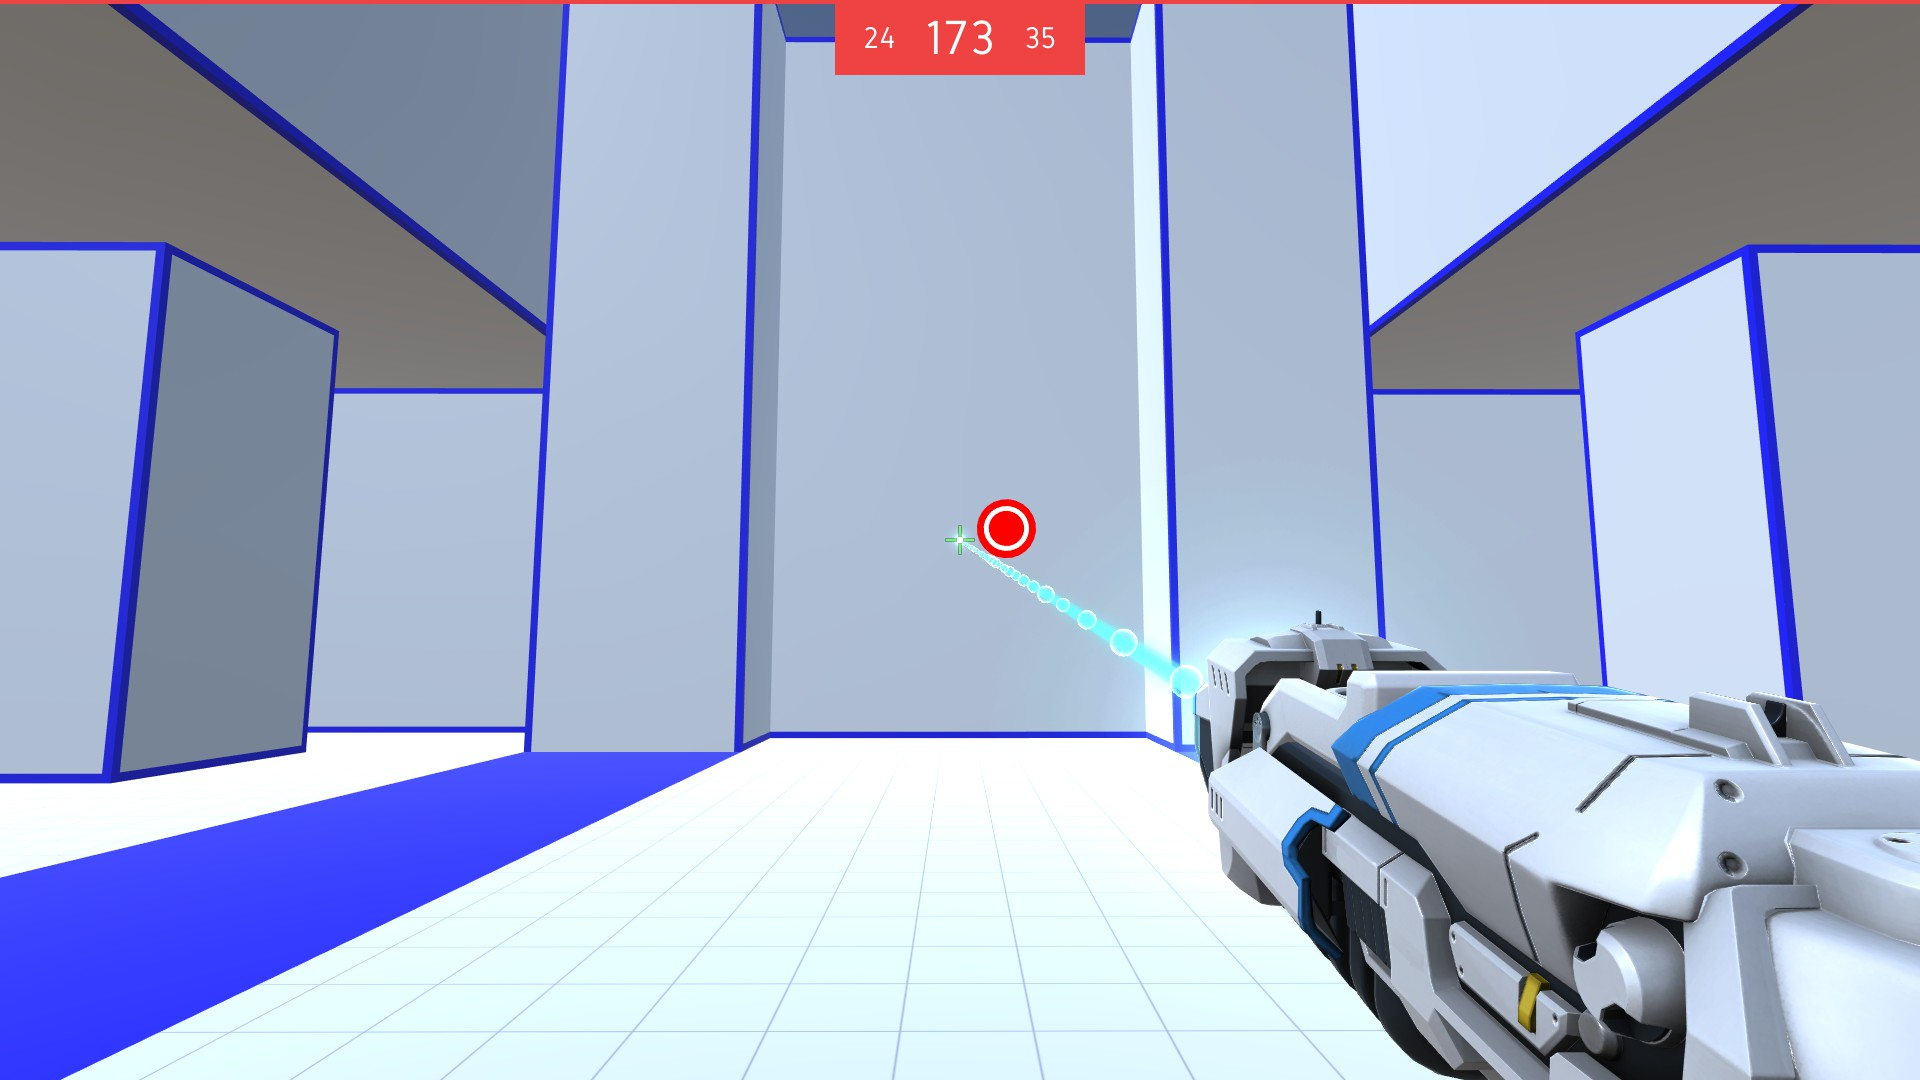target: (977, 501, 1038, 559)
